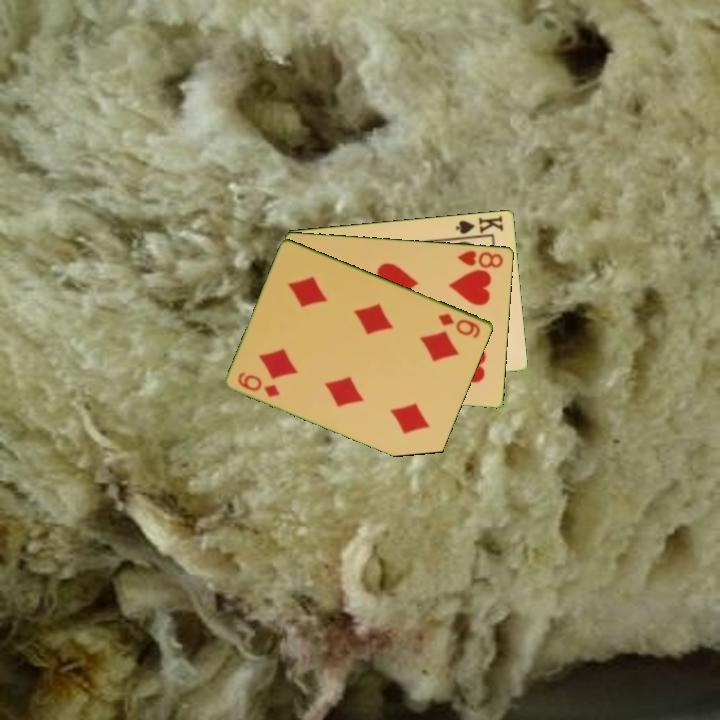6d: (434, 309, 484, 341), (234, 368, 283, 400)
8h: (454, 247, 506, 271)
Ks: (453, 211, 507, 237)
